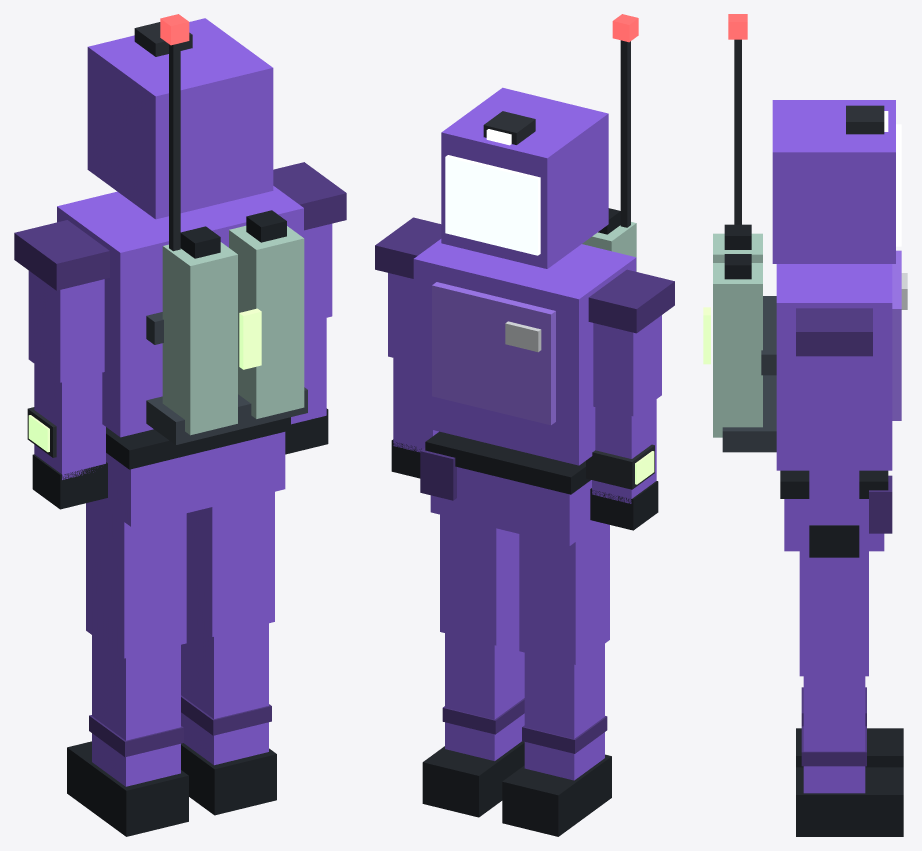
File: bio_tech_purple.glb
3 renders of one model, left to right at view 1: azimuth 30°, elevation 25°; view 2: azimuth 150°, elevation 25°; view 3: azimuth 270°, elevation 25°, orthographic. The views are drawn at different scales.
Parts seen in each view (by area): view 1: Merged6, Merged, Merged7, Merged8, Merged9, _MeshInstance3D_2615, Merged3, _MeshInstance3D_2626, Merged2, Merged5, Merged4; view 2: Merged6, Merged, Merged7, Merged8, Merged9, _MeshInstance3D_2615, Merged3, _MeshInstance3D_2626, Merged2, Merged5, Merged4; view 3: Merged6, Merged, Merged8, Merged5, _MeshInstance3D_2626, Merged4, Merged9, Merged7.
Boxes of the visible parts, left/top/right/bottom form: Merged6: left=57, top=14, right=307, bottom=444; Merged: left=87, top=18, right=273, bottom=219; Merged7: left=67, top=635, right=188, bottom=836; Merged8: left=181, top=618, right=276, bottom=815; Merged9: left=96, top=417, right=290, bottom=526; _MeshInstance3D_2615: left=86, top=501, right=186, bottom=658; Merged3: left=14, top=220, right=109, bottom=382; _MeshInstance3D_2626: left=186, top=492, right=274, bottom=636; Merged2: left=27, top=364, right=107, bottom=509; Merged5: left=273, top=162, right=346, bottom=322; Merged4: left=285, top=318, right=328, bottom=454; Merged6: left=413, top=14, right=638, bottom=465; Merged: left=441, top=87, right=608, bottom=268; Merged7: left=502, top=644, right=611, bottom=836; Merged8: left=422, top=629, right=524, bottom=817; Merged9: left=420, top=431, right=600, bottom=545; _MeshInstance3D_2615: left=519, top=523, right=609, bottom=664; Merged3: left=588, top=269, right=674, bottom=416; _MeshInstance3D_2626: left=440, top=514, right=519, bottom=645; Merged2: left=586, top=399, right=658, bottom=530; Merged5: left=375, top=217, right=441, bottom=362; Merged4: left=391, top=358, right=438, bottom=478; Merged6: left=703, top=14, right=907, bottom=470; Merged: left=772, top=100, right=901, bottom=263; Merged8: left=796, top=676, right=903, bottom=836; Merged5: left=796, top=308, right=872, bottom=441; _MeshInstance3D_2626: left=799, top=551, right=868, bottom=676; Merged4: left=809, top=441, right=859, bottom=557; Merged9: left=780, top=470, right=892, bottom=551; Merged7: left=796, top=687, right=903, bottom=767.
Bounding box in the file's own units: 0.79 × 2.18 × 0.53.
